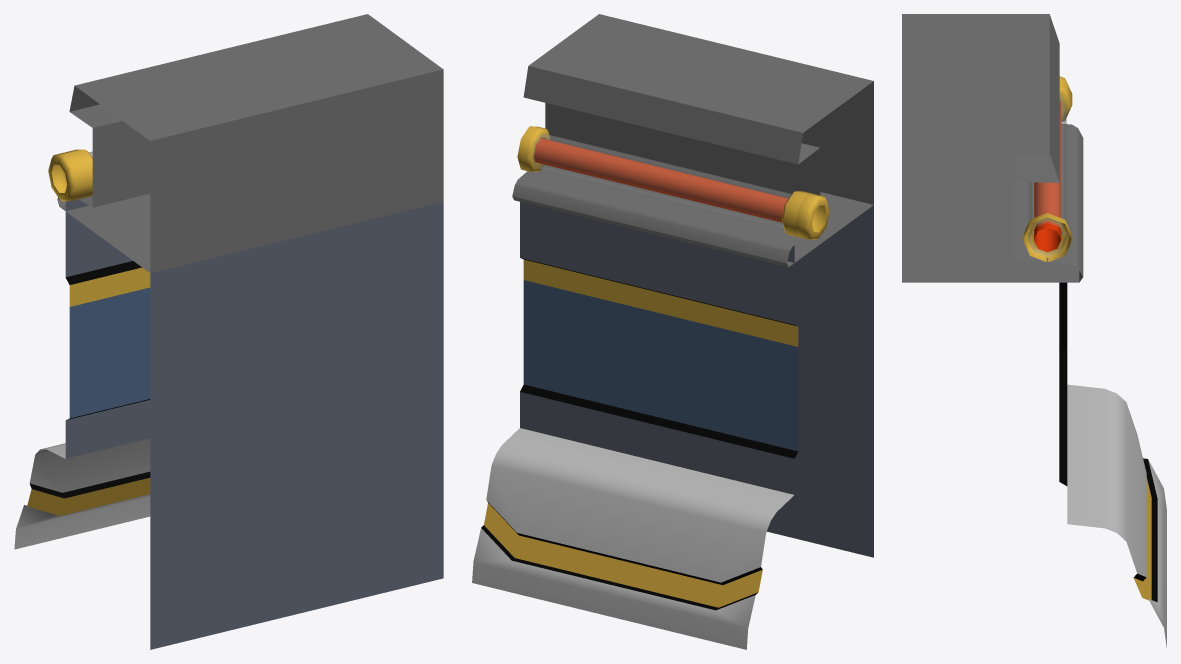
Rendered from Half_Wall_withoutdetails2.fbx.
The picture shows the model from 3 angles, left to right: view 1: azimuth 30°, elevation 25°; view 2: azimuth 150°, elevation 25°; view 3: azimuth 270°, elevation 25°; orthographic projection. The views are drawn at different scales.
Parts seen in each view (by area): view 1: Half_Wall_withoutdetails2; view 2: Half_Wall_withoutdetails2; view 3: Half_Wall_withoutdetails2.
Part boxes in pixels (left/top/right/bottom): Half_Wall_withoutdetails2: left=14, top=14, right=443, bottom=649; Half_Wall_withoutdetails2: left=472, top=14, right=873, bottom=649; Half_Wall_withoutdetails2: left=902, top=14, right=1166, bottom=647.
Size of the model in its own units: 434 by 682 by 330.
